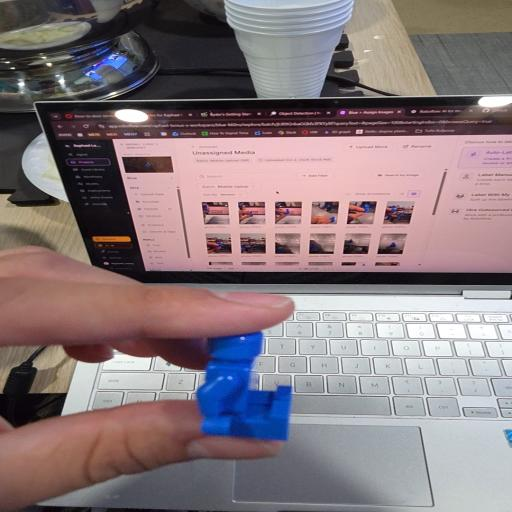Blue: (196, 331, 291, 440)
